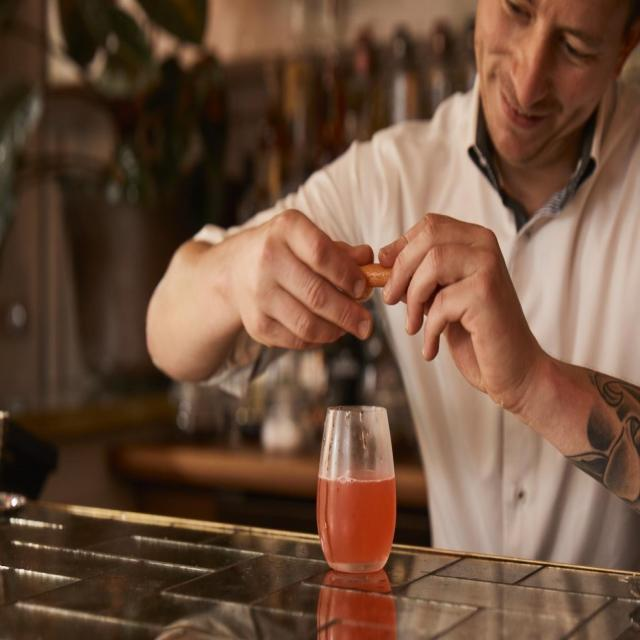glass-normal: (315, 402, 398, 577)
